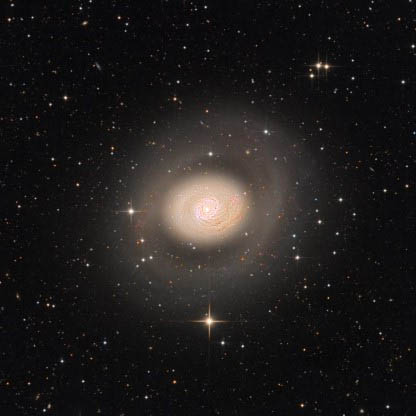Messier 94: (88, 88, 339, 337)
